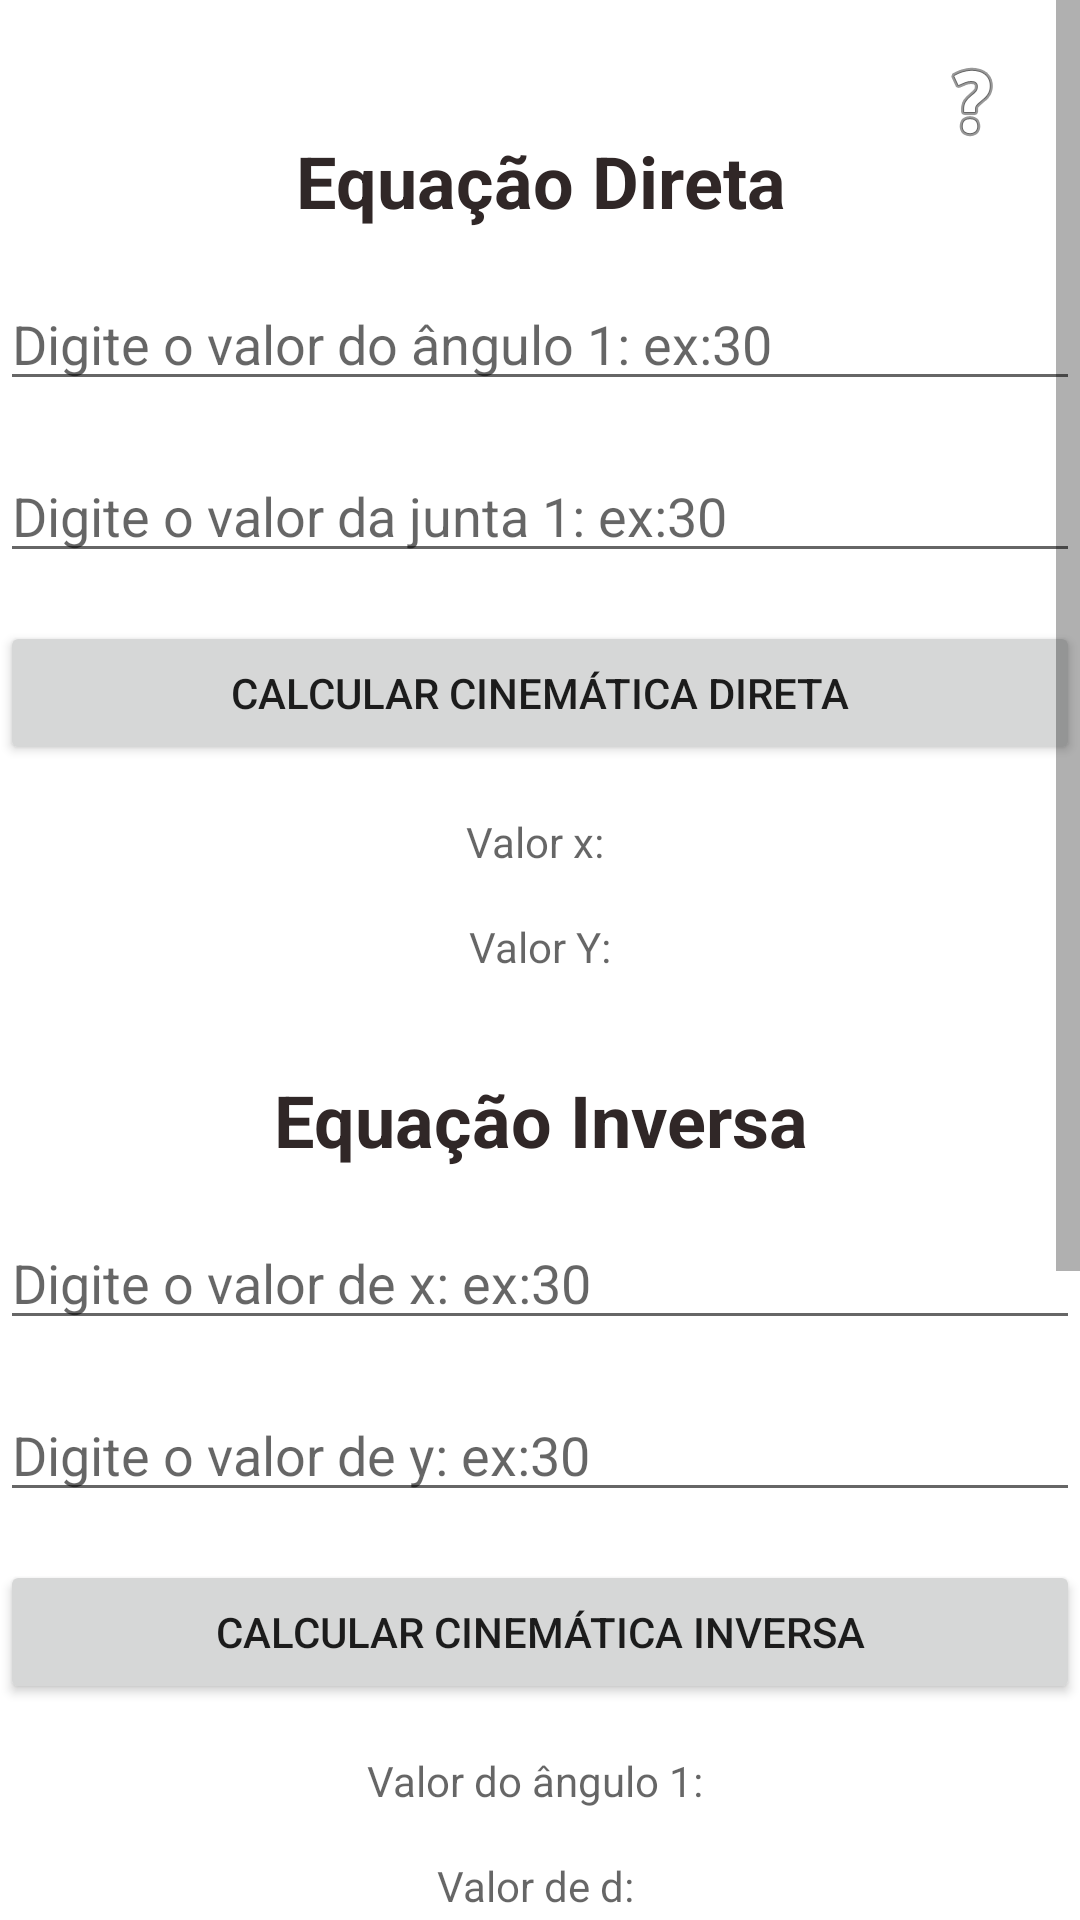

Screen size 1080 x 1920. Icon name, then its box in pixels as detection(x1, y1, x2, y2):
help: detection(951, 68, 993, 136)
